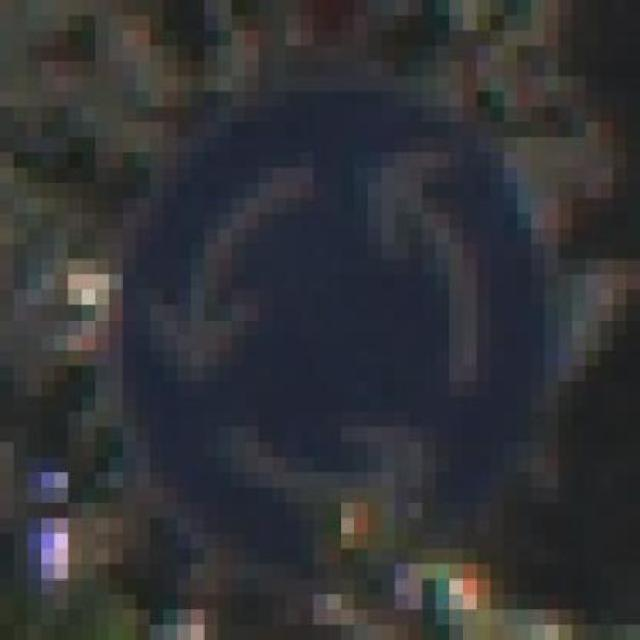Round-About: (82, 61, 586, 594)
